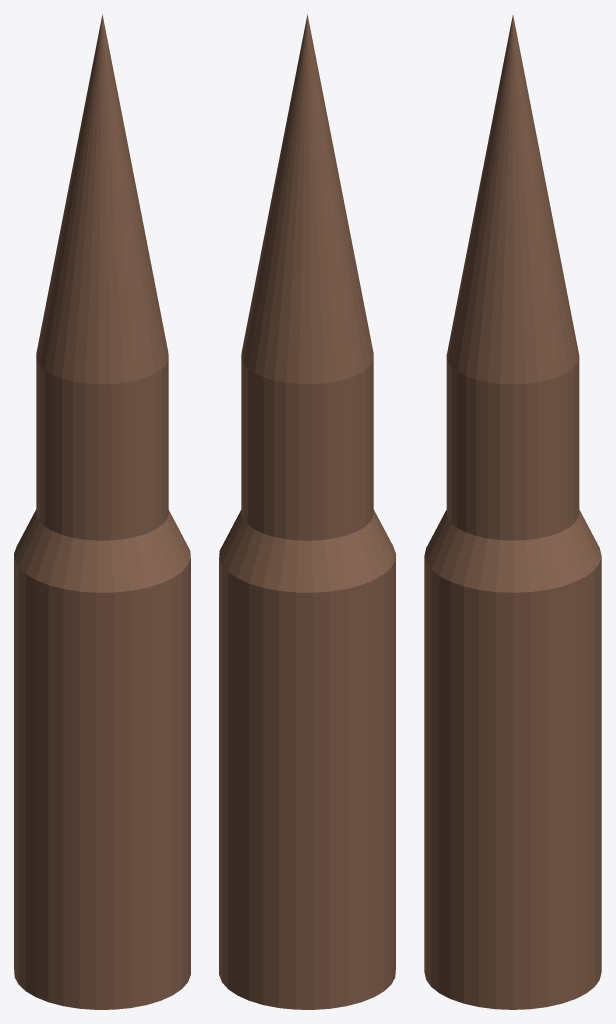
The model's file is ForGun1.fbx.
The picture shows the model from 3 angles, left to right: view 1: azimuth 30°, elevation 25°; view 2: azimuth 150°, elevation 25°; view 3: azimuth 270°, elevation 25°; orthographic projection.
Parts seen in each view (by area): view 1: Cylinder.023; view 2: Cylinder.023; view 3: Cylinder.023.
Part boxes in pixels (left/top/right/bottom): Cylinder.023: left=14, top=14, right=190, bottom=1009; Cylinder.023: left=219, top=14, right=395, bottom=1009; Cylinder.023: left=424, top=15, right=601, bottom=1009.
Bounding box in the file's own units: 39.54 × 236 × 39.54.
